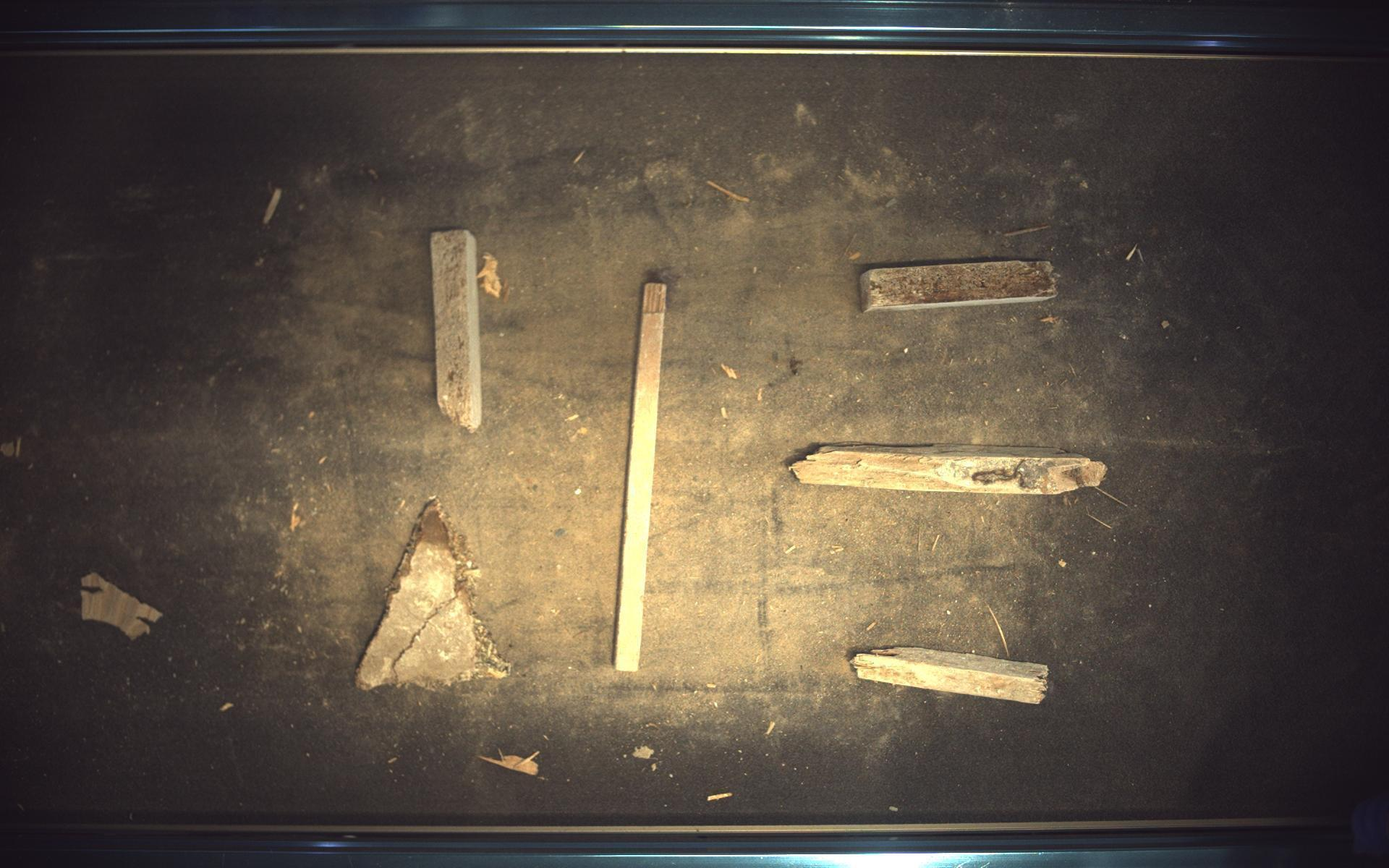wood: (357, 501, 510, 691), (615, 281, 668, 673), (792, 445, 1110, 495), (853, 648, 1051, 705), (430, 229, 482, 431), (862, 260, 1058, 311)
